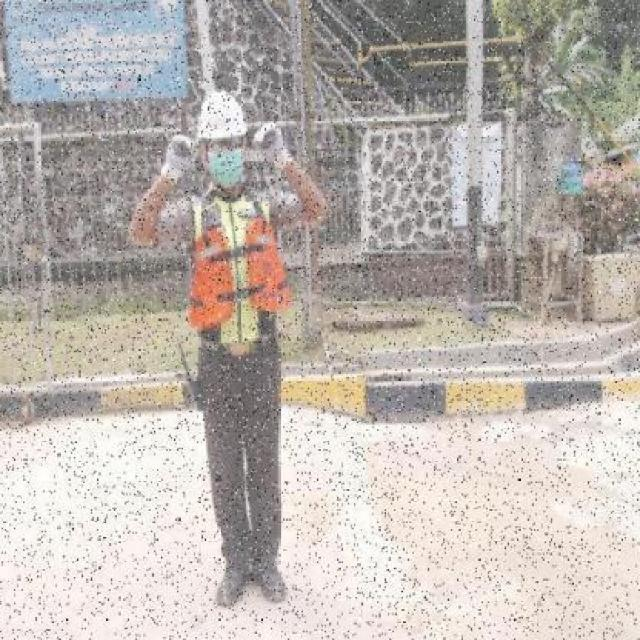Boots: (214, 558, 254, 614), (253, 566, 292, 606)
Gloves: (252, 118, 296, 174), (156, 130, 198, 186)
Helmet: (198, 89, 250, 142)
Mask: (188, 215, 294, 333)
